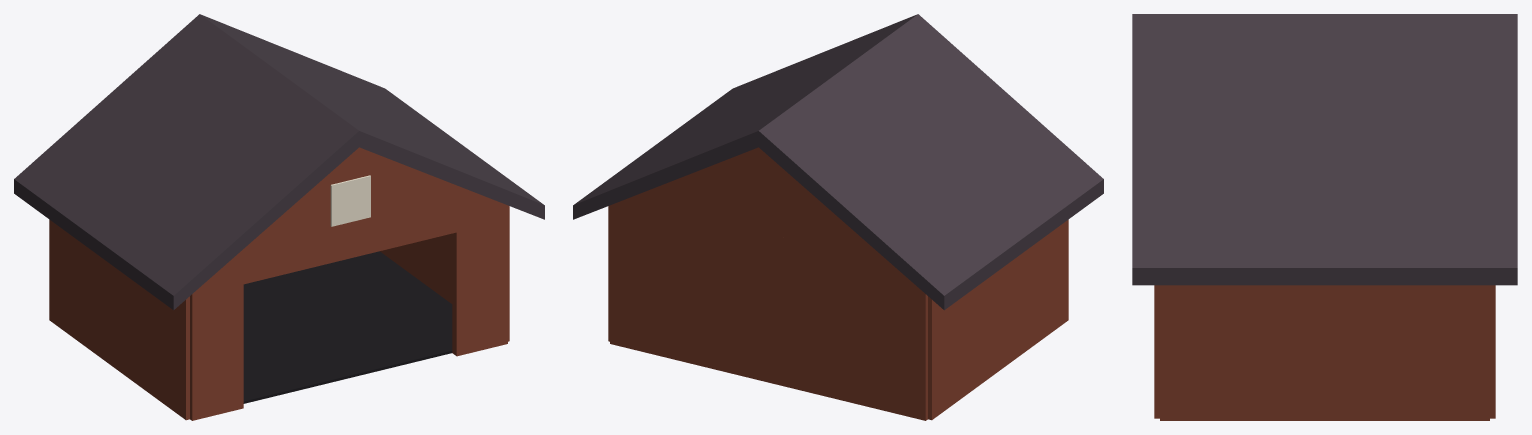
The model's file is barn_shell.glb.
The picture shows the model from 3 angles, left to right: view 1: azimuth 30°, elevation 25°; view 2: azimuth 150°, elevation 25°; view 3: azimuth 270°, elevation 25°; orthographic projection. The views are drawn at different scales.
Visible parts, largest first — view 1: barn_shell; view 2: barn_shell; view 3: barn_shell.
Part boxes in pixels (x1=…): barn_shell: x1=14, y1=14, x2=544, y2=420; barn_shell: x1=573, y1=14, x2=1103, y2=420; barn_shell: x1=1132, y1=14, x2=1517, y2=420.
Size of the model in its own units: 9.4 by 6.25 by 7.
